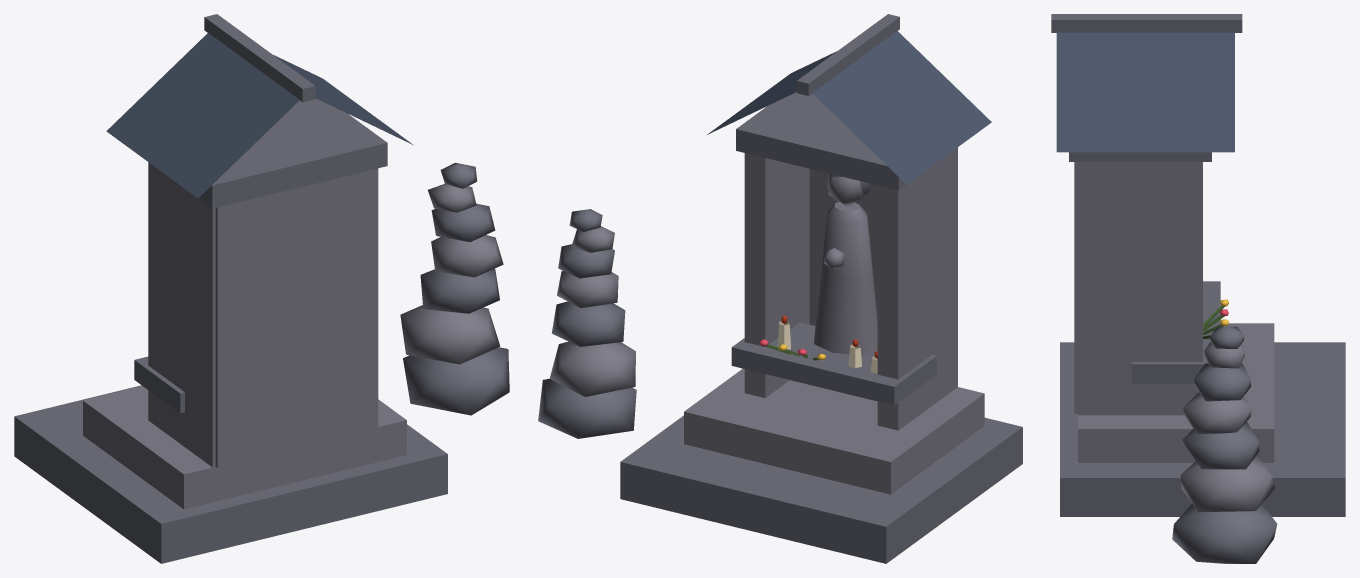
File: wayside_shrine.glb
3 renders of one model, left to right at view 1: azimuth 30°, elevation 25°; view 2: azimuth 150°, elevation 25°; view 3: azimuth 270°, elevation 25°, orthographic. The views are drawn at different scales.
Parts seen in each view (by area): view 1: step_low; view 2: step_low; view 3: step_low.
Part boxes in pixels (x1,y1,x2,y2): step_low: [14, 14, 509, 563]; step_low: [538, 14, 1022, 563]; step_low: [1051, 14, 1345, 563].
Bounding box in the file's own units: 2.71 × 2.68 × 1.65.
